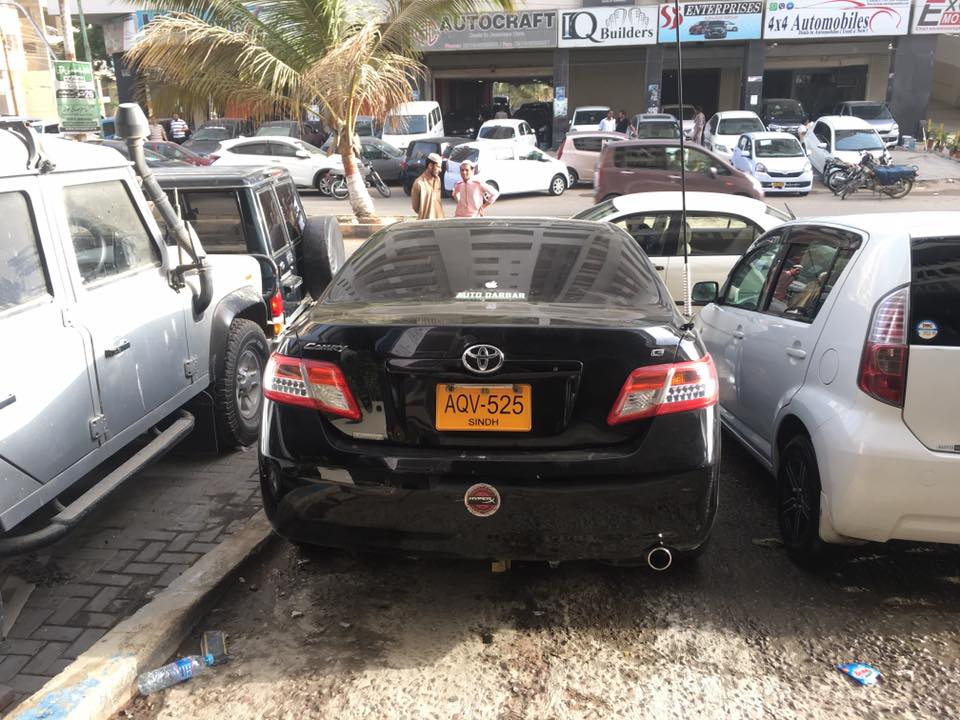license plate: (433, 383, 535, 434)
